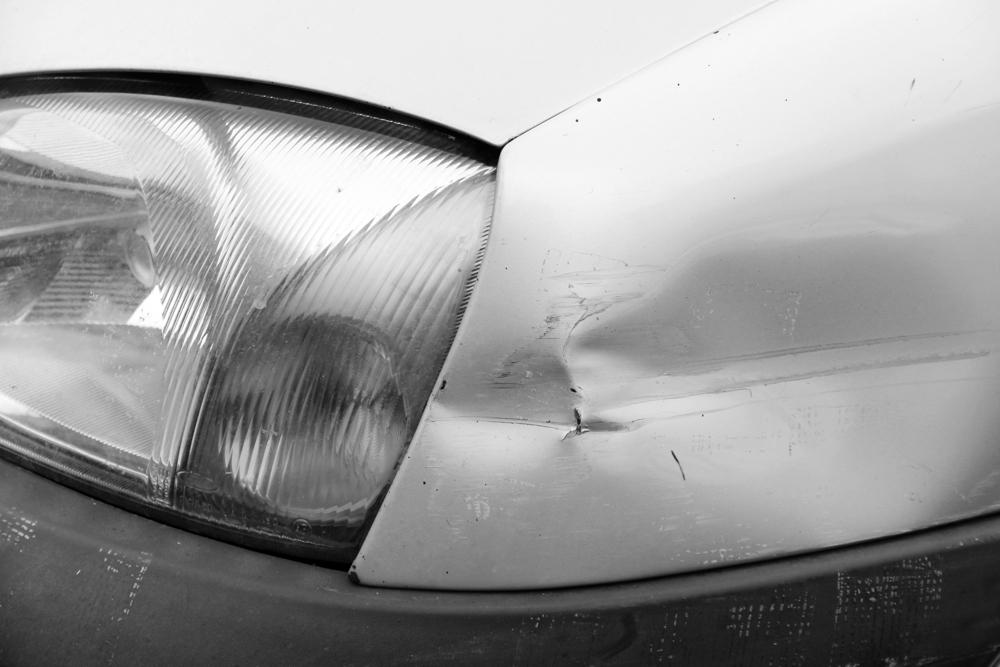dent: (425, 219, 1000, 526)
